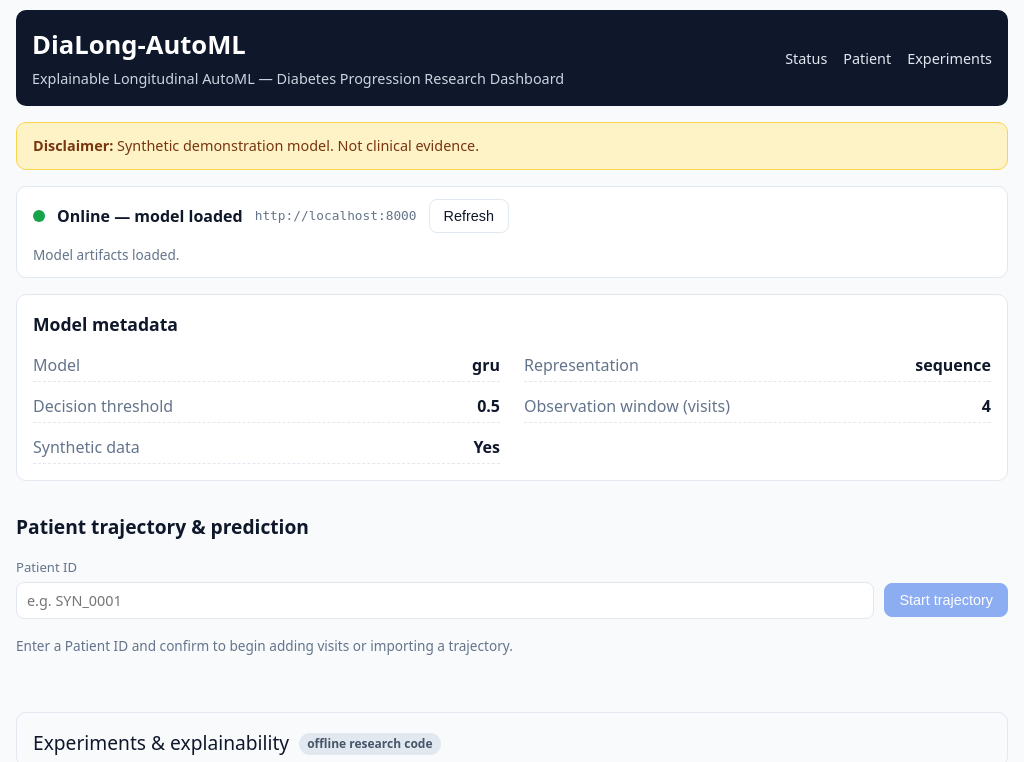
Test case: App — unavailable features › documents unavailable features without fabricating data
Expected: the element with test id "health-badge" is shown, [16, 186, 1008, 278]
Click the heading "Experiments & explainability offline research code": click(237, 743) [33, 730, 440, 756]
(page scrolled)
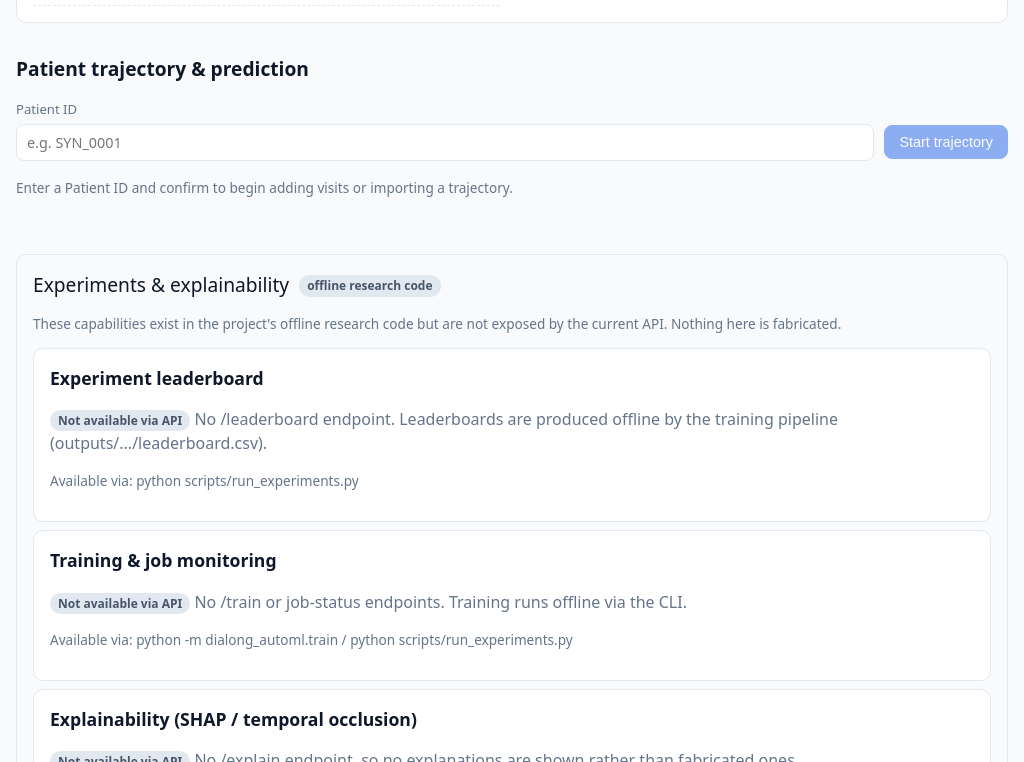
Now the heading "Experiment leaderboard" is shown, box [50, 366, 264, 390]
